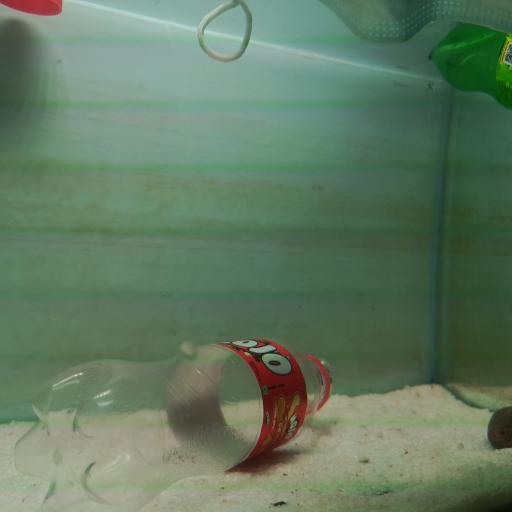bottle_cap: (2, 0, 65, 18)
mask: (198, 0, 512, 66)
plastic_bottle: (14, 336, 334, 512), (426, 22, 512, 111)
